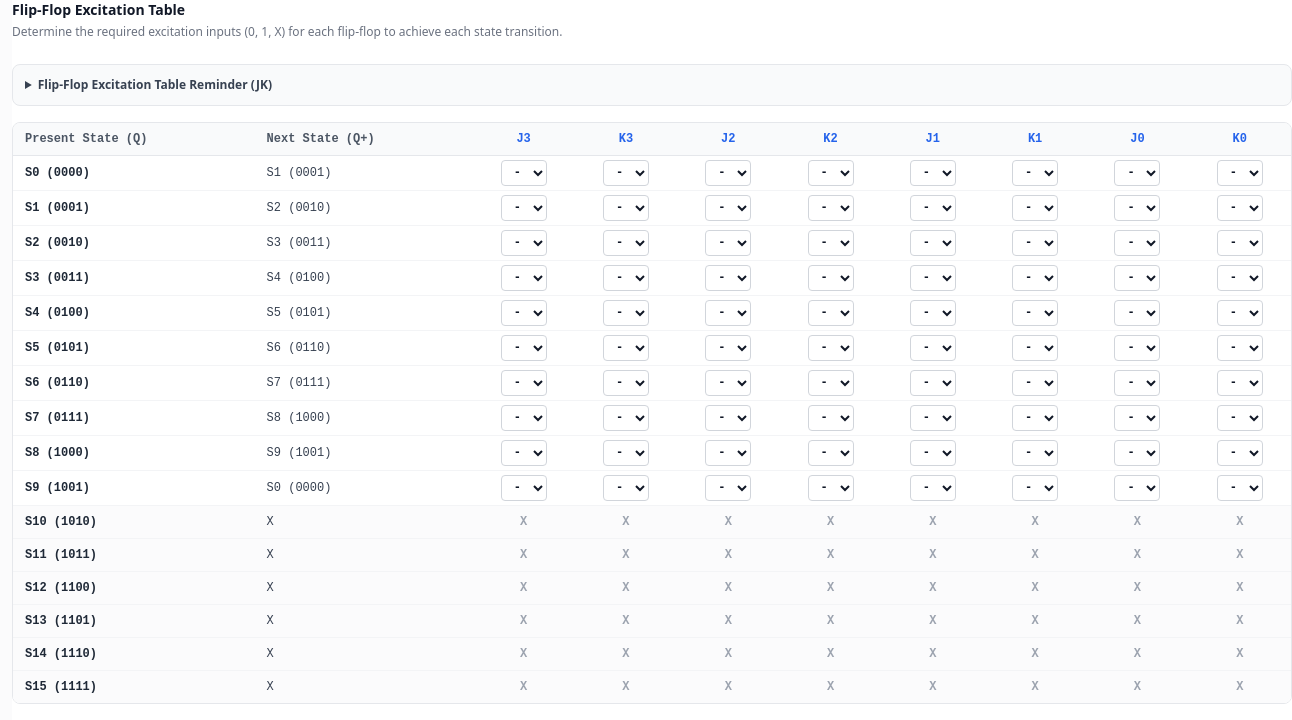
Test case: ExcitationTableEditor component › accepts concrete value (0 or 1) on a dont-care cell with accepted-with-note
Select "1" in the dropdown named "Row S0, input J0". click: (1137, 173)
box: [1114,160,1160,186]
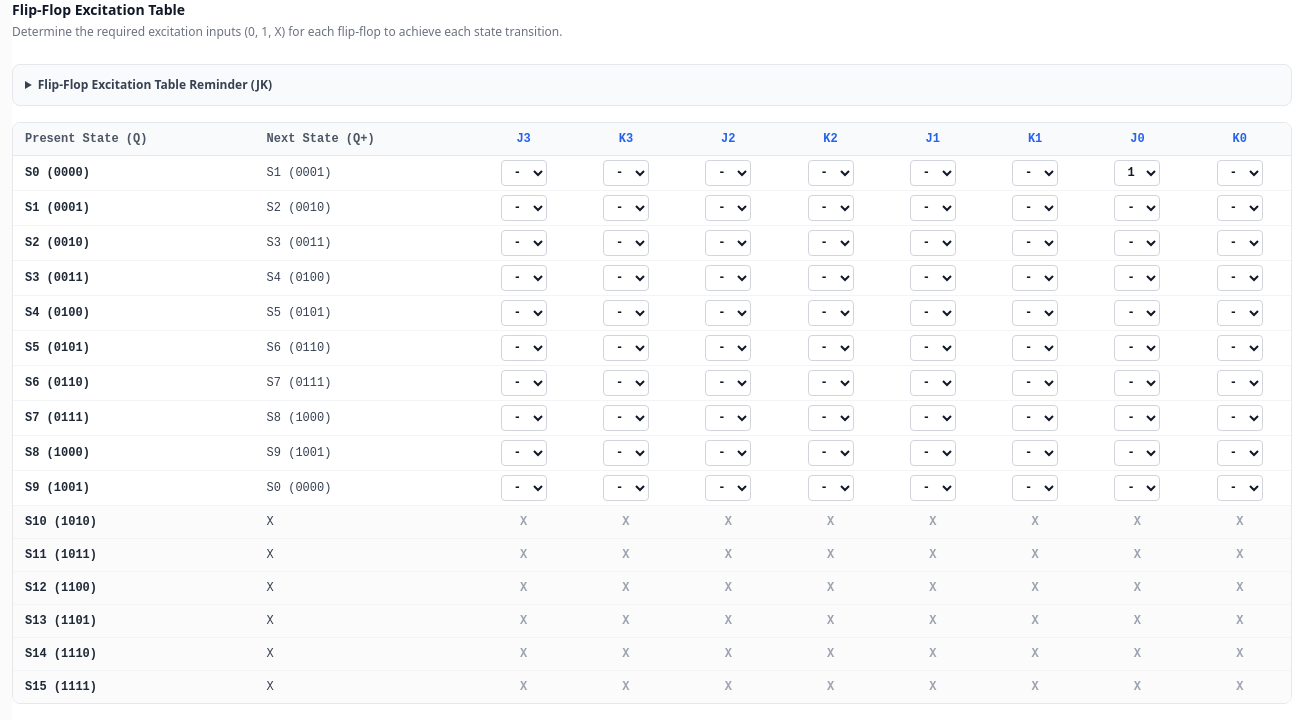
Select "0" in the dropdown named "Row S0, input K0". click: (1240, 173)
box: [1217,160,1263,186]
(page scrolled)
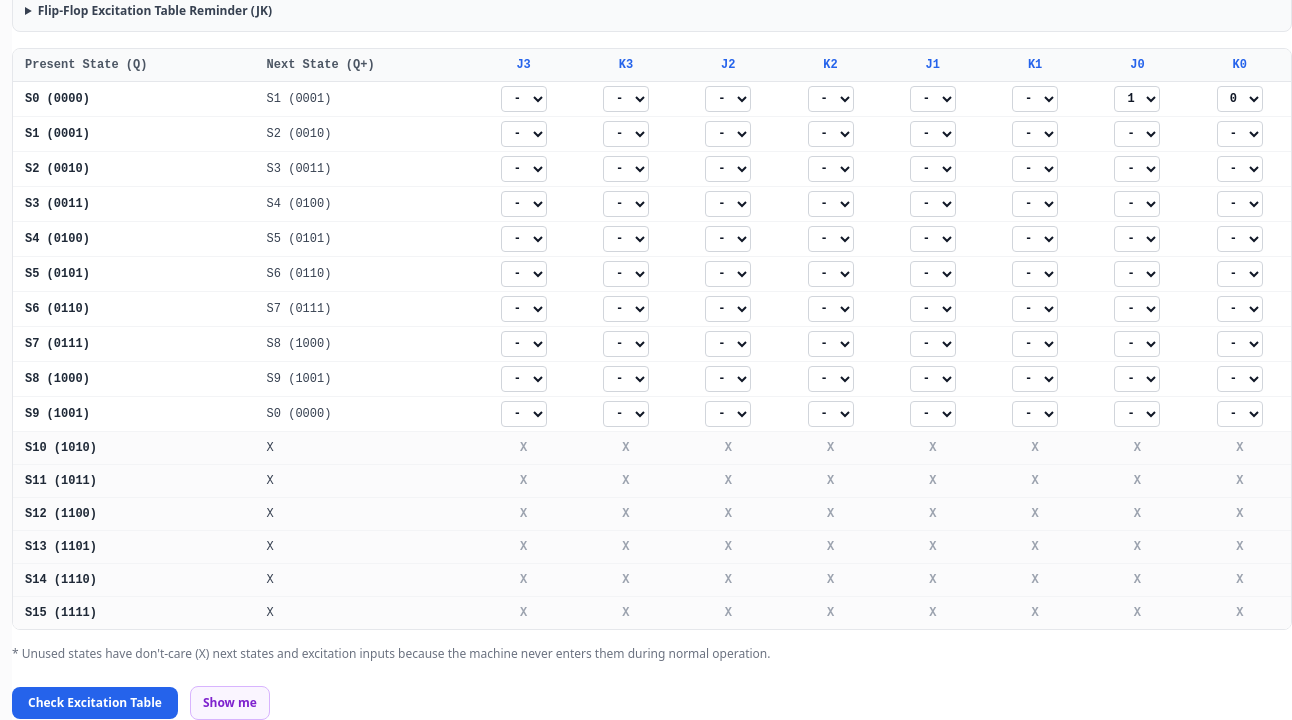
Click the button "Check Excitation Table". click: (95, 703)
box: [12,687,178,719]
(page scrolled)
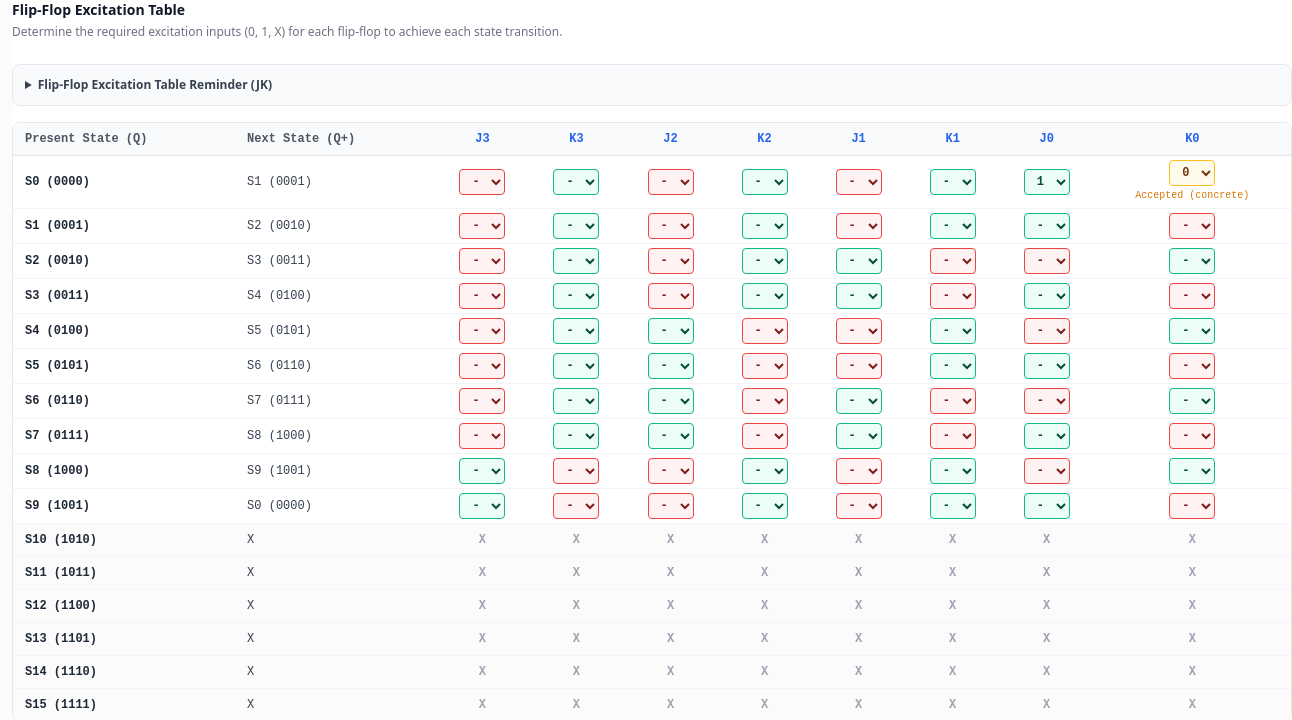
Expected: the text "Accepted (concrete)" is shown, [1135,190,1249,201]
